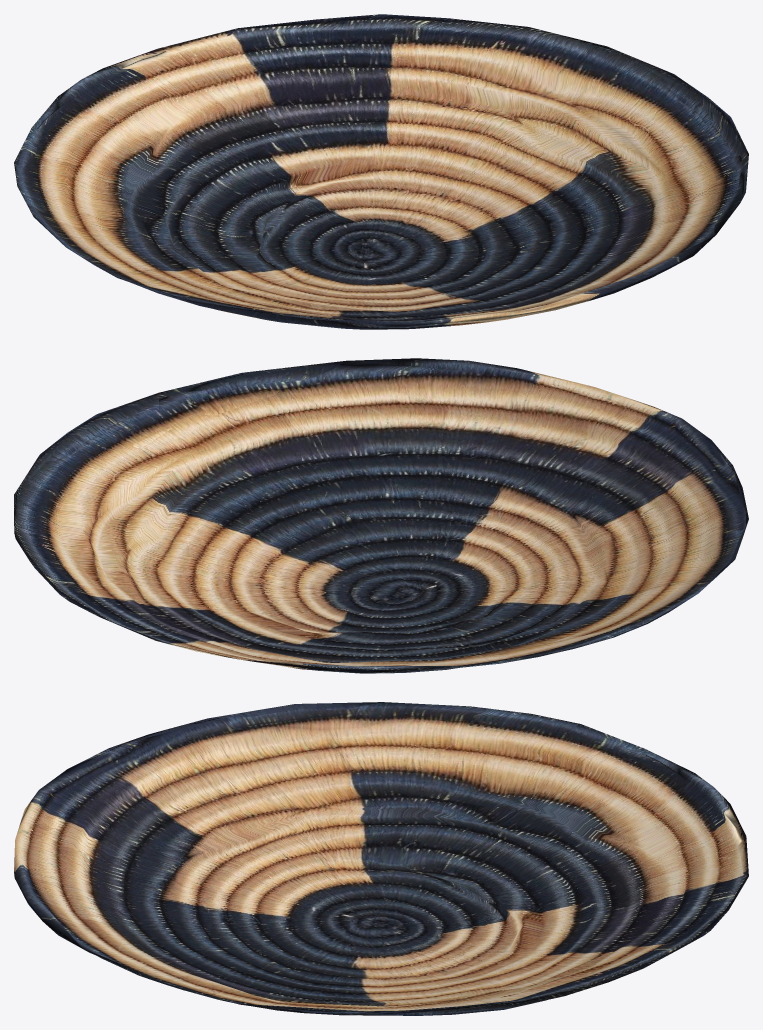
The model's file is Dark Blocked Radial Basket.fbx.
The picture shows the model from 3 angles, top to bottom: view 1: azimuth 30°, elevation 25°; view 2: azimuth 150°, elevation 25°; view 3: azimuth 270°, elevation 25°; orthographic projection.
Visible parts, largest first — view 1: Dark Blocked Radial Basket; view 2: Dark Blocked Radial Basket; view 3: Dark Blocked Radial Basket.
Part boxes in pixels (x1=…): Dark Blocked Radial Basket: x1=14, y1=14, x2=748, y2=329; Dark Blocked Radial Basket: x1=14, y1=358, x2=748, y2=673; Dark Blocked Radial Basket: x1=14, y1=702, x2=748, y2=1015.
Bounding box in the file's own units: 37.72 × 4.85 × 37.6.
1 material, 1 textured.
